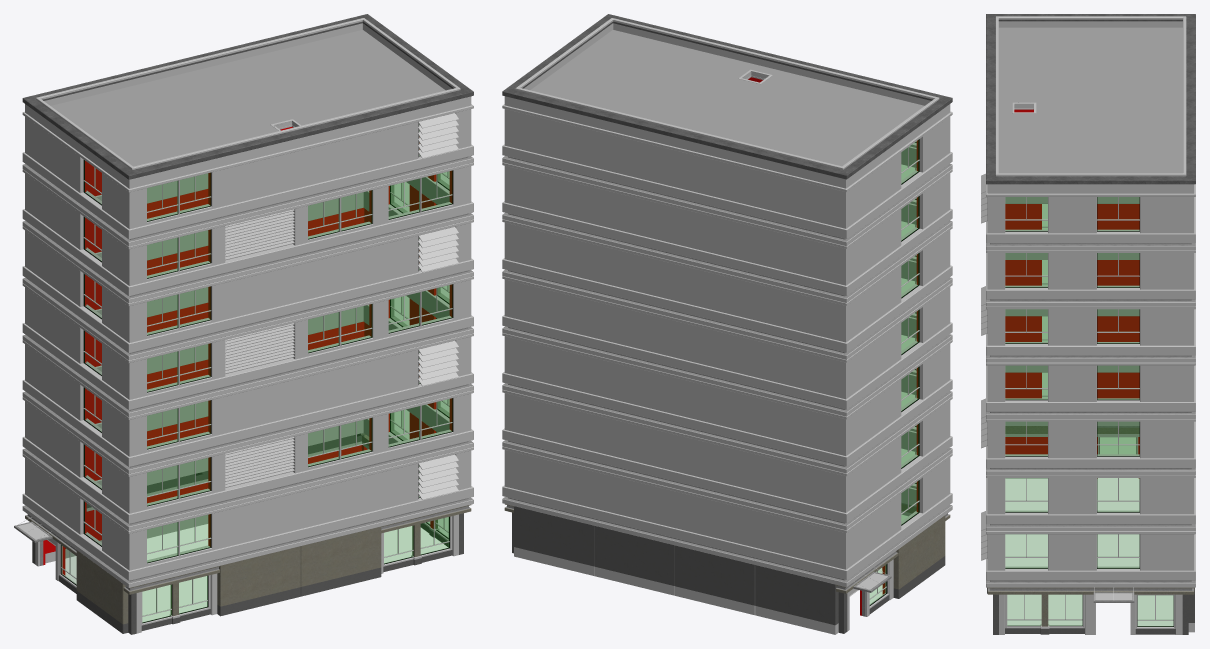
Rendered from SM_Building24_V2.fbx.
3 views of the same model, side by side, from view 1: azimuth 30°, elevation 25°; view 2: azimuth 150°, elevation 25°; view 3: azimuth 270°, elevation 25° (orthographic).
Parts seen in each view (by area): view 1: SM_Building24_V2; view 2: SM_Building24_V2; view 3: SM_Building24_V2.
Boxes of the visible parts, x1,y1,x2,y2 form: SM_Building24_V2: (14,14,473,634); SM_Building24_V2: (502,14,952,634); SM_Building24_V2: (981,14,1195,634).
Bounding box in the file's own units: 2816 × 3311 × 1404.
